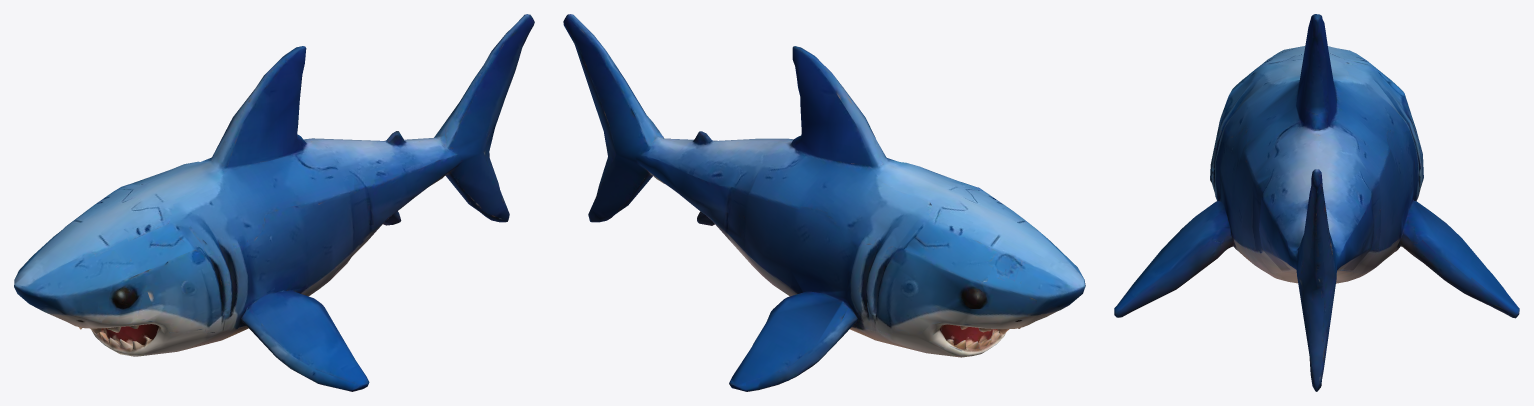
Rendered from shark.glb.
3 renders of one model, left to right at view 1: azimuth 30°, elevation 25°; view 2: azimuth 150°, elevation 25°; view 3: azimuth 270°, elevation 25°, orthographic. The views are drawn at different scales.
Parts seen in each view (by area): view 1: tripo_node_25488916; view 2: tripo_node_25488916; view 3: tripo_node_25488916.
Part boxes in pixels (x1,y1,x2,y2): tripo_node_25488916: (14,14,534,391); tripo_node_25488916: (563,14,1085,391); tripo_node_25488916: (1114,14,1519,391).
Bounding box in the file's own units: 99.68 × 50.39 × 58.43.
Materials: 1 (1 with a texture image).
